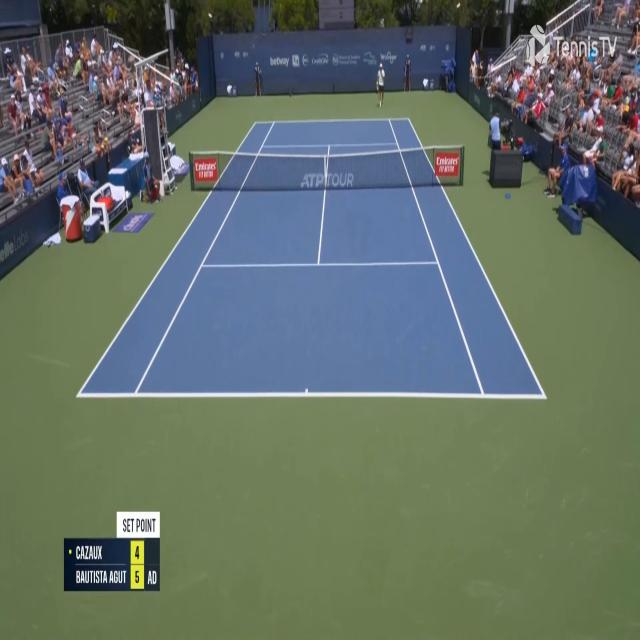tennis-player: (375, 61, 386, 108)
